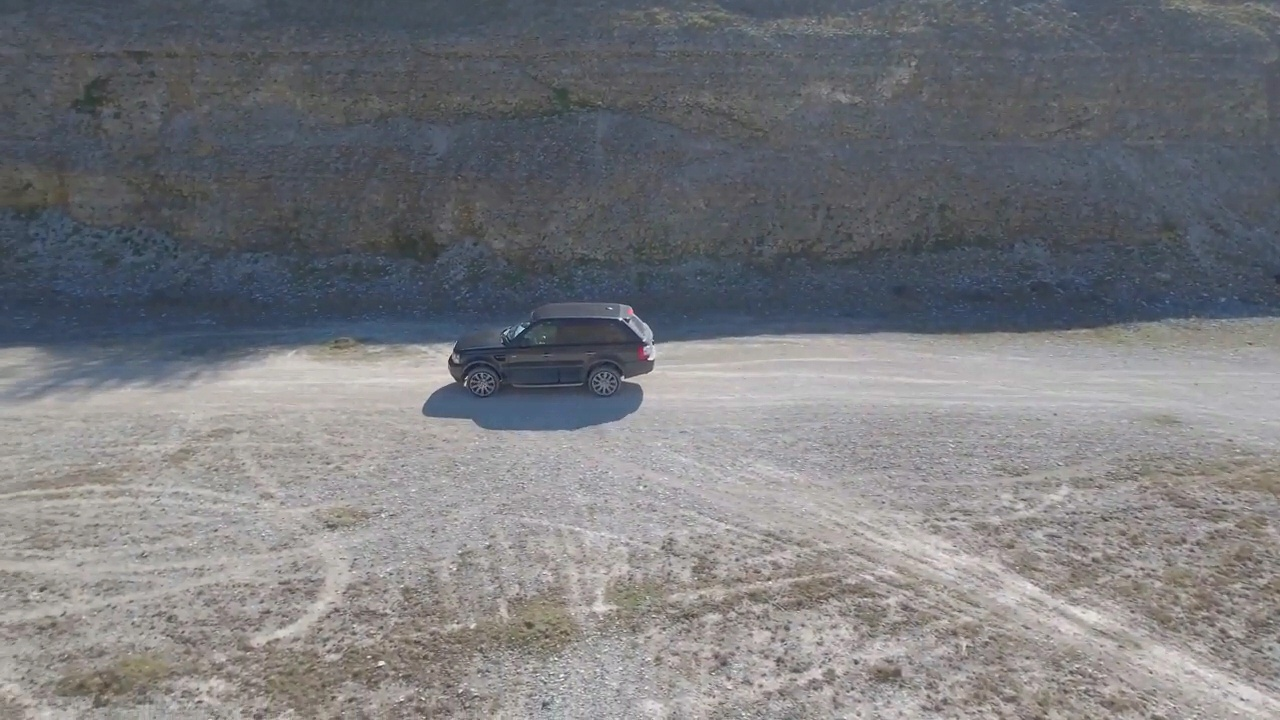araba: (443, 298, 655, 399)
